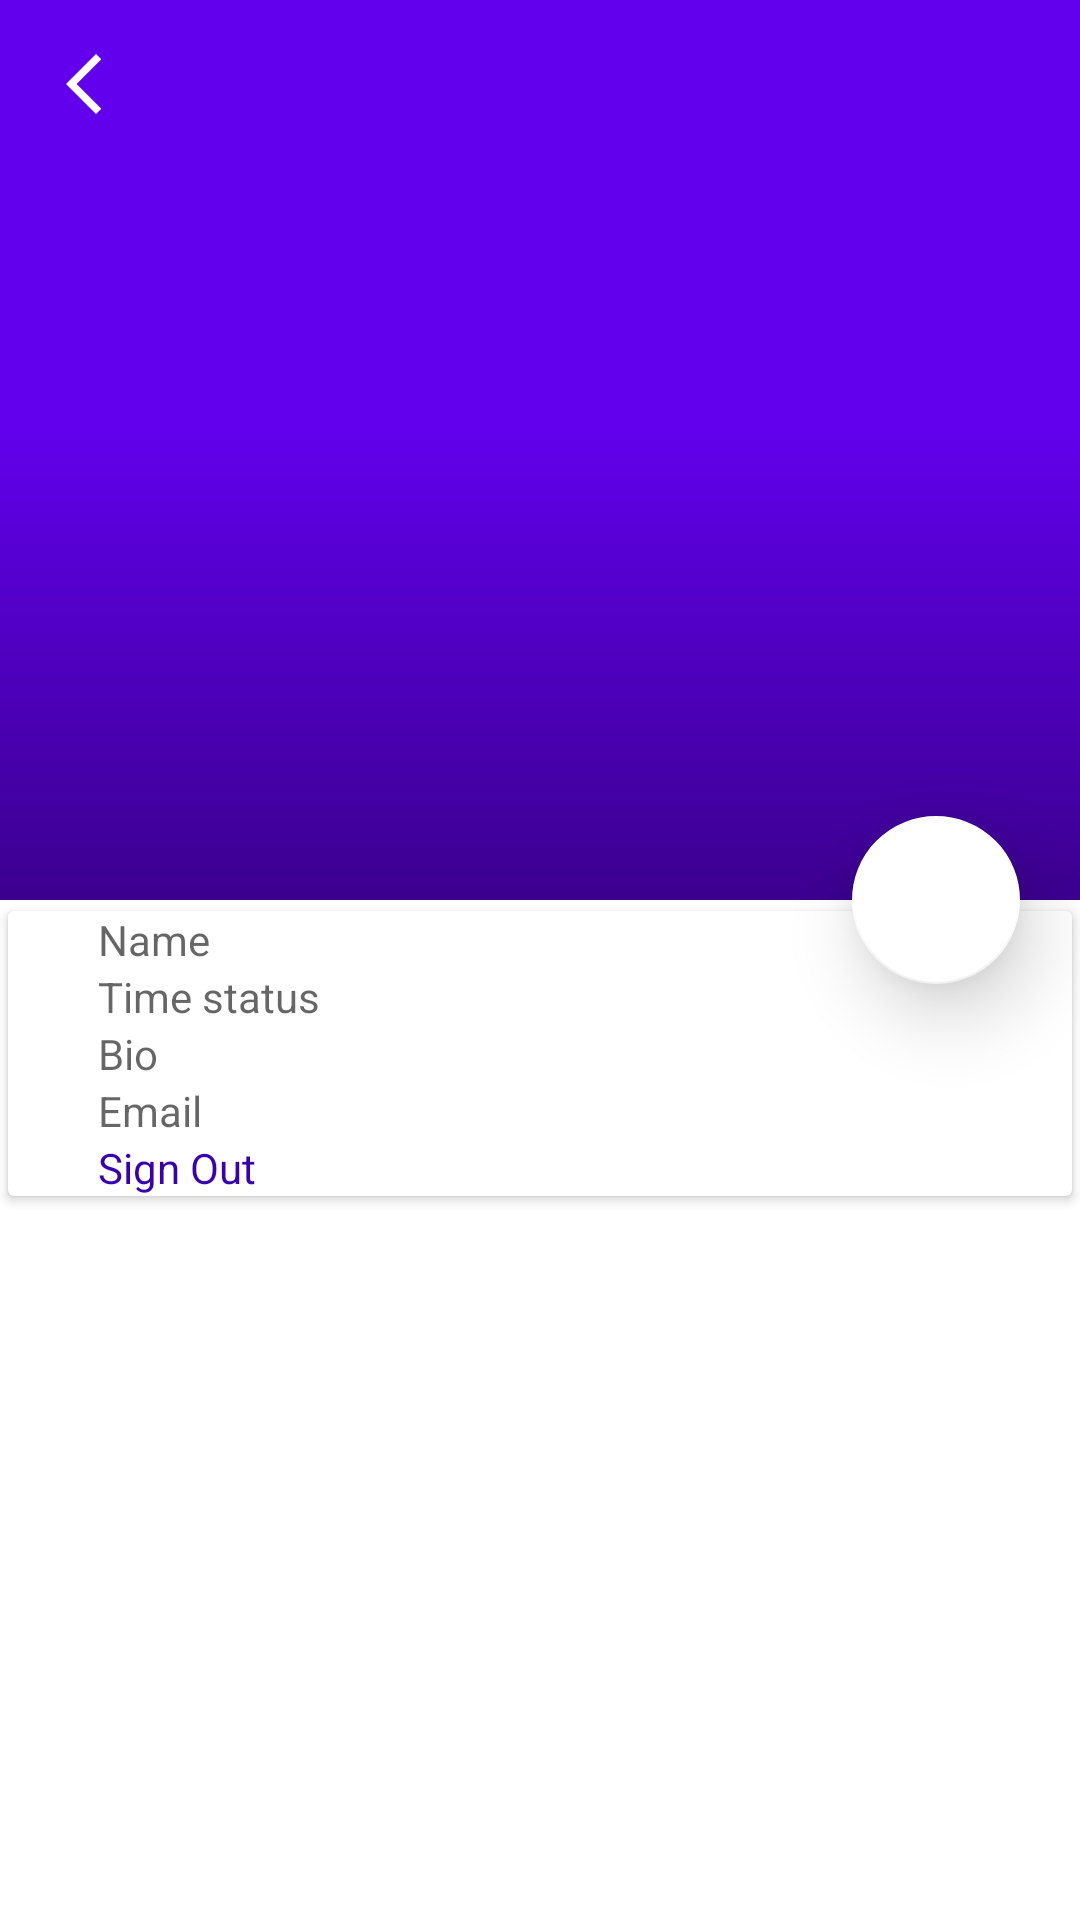

Where icons sit on this 1080x1920 app screen, as (x1, y1, x2, y2):
back: (66, 54, 101, 114)
